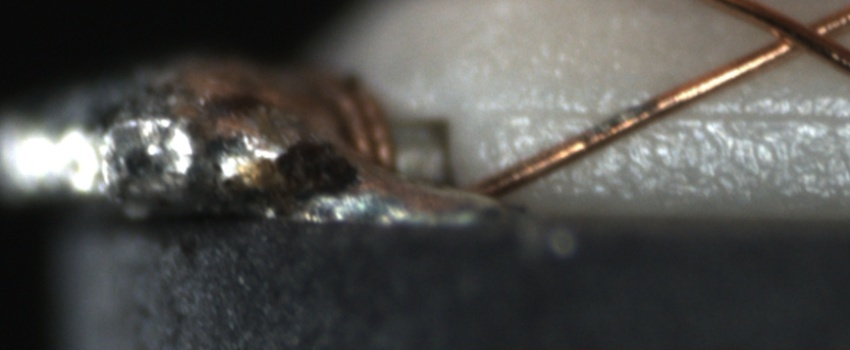CL: (747, 3, 842, 65)
DL: (500, 82, 850, 146)
TE: (315, 64, 402, 169)
